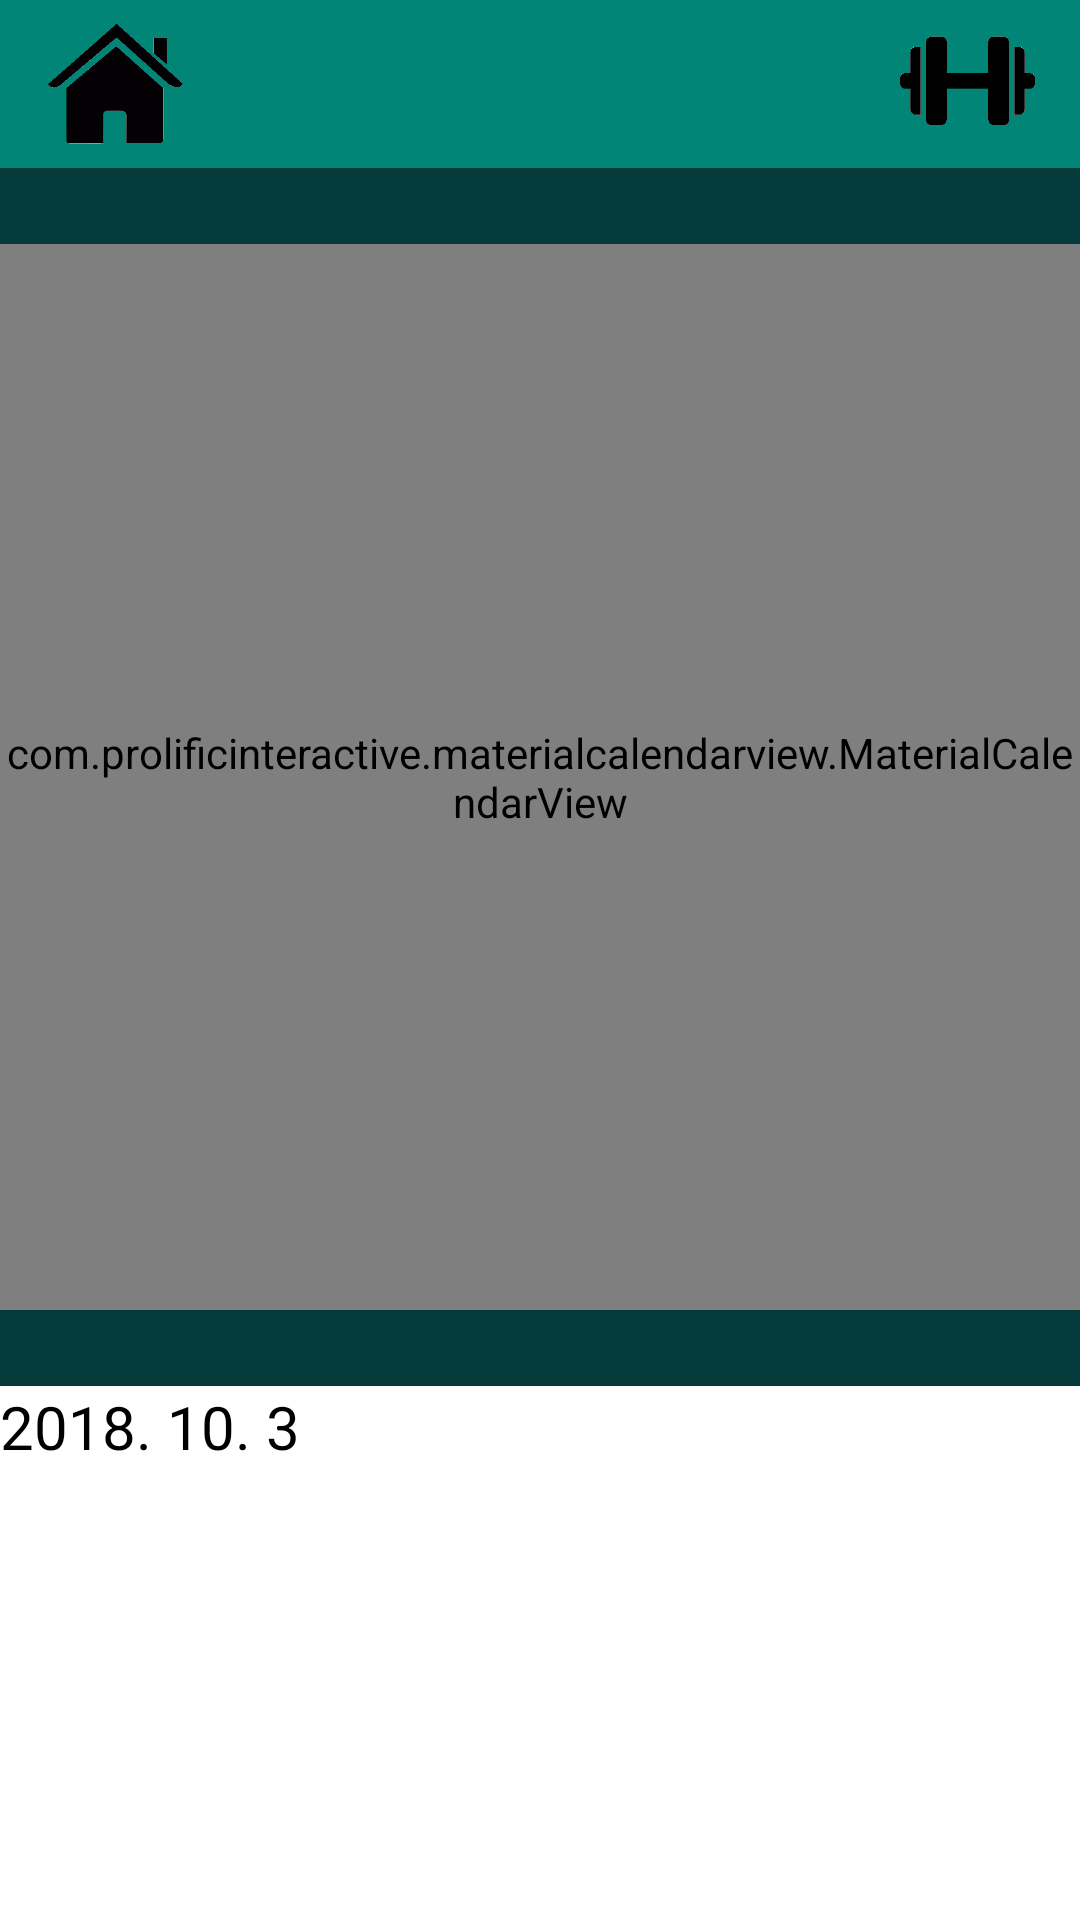

Icons on this 1080px x 1920px Android screen, each with its box as rect(x1, y1, x2, y2):
homebutton: rect(48, 24, 183, 144)
